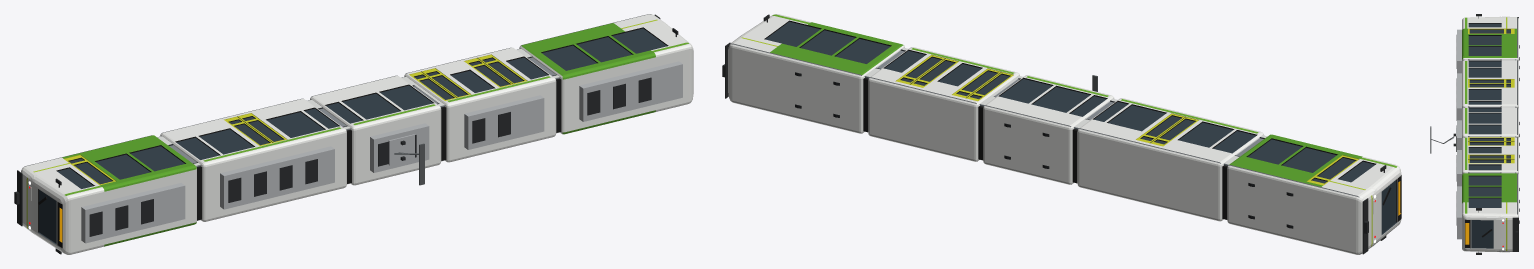
The picture shows the model from 3 angles, left to right: view 1: azimuth 30°, elevation 25°; view 2: azimuth 150°, elevation 25°; view 3: azimuth 270°, elevation 25°; orthographic projection. The views are drawn at different scales.
Parts seen in each view (by area): view 1: D2_body_s0, D2_body_s1, D2_body_s4, D2_body_s3, D2_body_s2, D2_roof_pod_033, D2_roof_pod_029, D2_roof_pod_044, D2_roof_pod_041, D2_roof_pod_038, D2_pan_base_048; view 2: D2_body_s0, D2_body_s1, D2_body_s4, D2_body_s3, D2_body_s2; view 3: D2_body_s4, D2_body_s1, D2_body_s0, D2_body_s3, D2_body_s2, D2_roof_pod_044, D2_roof_pod_033, D2_bumper_021, D2_roof_pod_029, D2_roof_pod_041, D2_roof_pod_038, D2_in_200.001 (+1 smaller).
Boxes of the visible parts, bbox=[...] form: D2_body_s0: bbox=[21, 135, 196, 254]; D2_body_s1: bbox=[160, 98, 346, 221]; D2_body_s4: bbox=[519, 14, 693, 134]; D2_body_s3: bbox=[404, 47, 556, 162]; D2_body_s2: bbox=[310, 75, 441, 185]; D2_roof_pod_033: bbox=[220, 146, 334, 209]; D2_roof_pod_029: bbox=[81, 183, 185, 243]; D2_roof_pod_044: bbox=[579, 61, 682, 121]; D2_roof_pod_041: bbox=[464, 95, 544, 149]; D2_roof_pod_038: bbox=[370, 123, 429, 172]; D2_pan_base_048: bbox=[388, 134, 414, 165]; D2_body_s0: bbox=[1227, 134, 1401, 254]; D2_body_s1: bbox=[1077, 98, 1264, 221]; D2_body_s4: bbox=[728, 14, 904, 133]; D2_body_s3: bbox=[868, 47, 1019, 161]; D2_body_s2: bbox=[983, 75, 1114, 184]; D2_body_s4: bbox=[1462, 173, 1518, 252]; D2_body_s1: bbox=[1462, 60, 1518, 108]; D2_body_s0: bbox=[1462, 16, 1518, 61]; D2_body_s3: bbox=[1462, 137, 1518, 174]; D2_body_s2: bbox=[1462, 107, 1518, 138]; D2_roof_pod_044: bbox=[1457, 186, 1461, 239]; D2_roof_pod_033: bbox=[1457, 73, 1461, 120]; D2_bumper_021: bbox=[1512, 217, 1518, 251]; D2_roof_pod_029: bbox=[1457, 29, 1461, 73]; D2_roof_pod_041: bbox=[1457, 150, 1461, 186]; D2_roof_pod_038: bbox=[1457, 120, 1461, 149]; D2_in_200.001: bbox=[1469, 59, 1500, 60].
Bounding box in the file's own units: 30.21 × 3.23 × 5.64.
